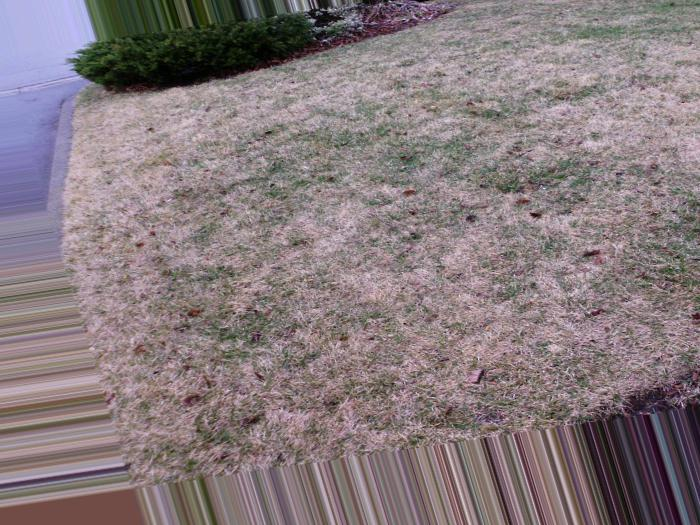patch: (297, 218, 492, 347), (554, 301, 660, 382), (81, 111, 150, 229), (181, 97, 277, 148)
